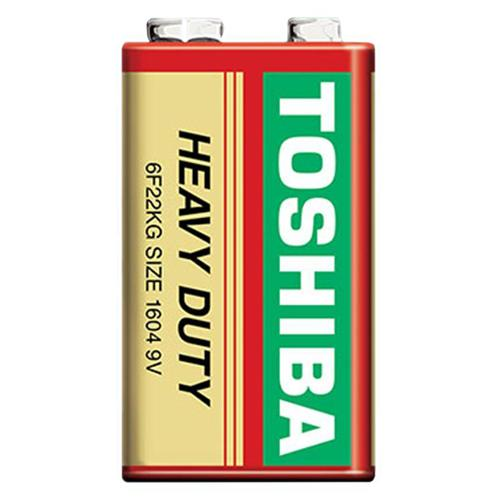9V Battery: (122, 16, 376, 483)
